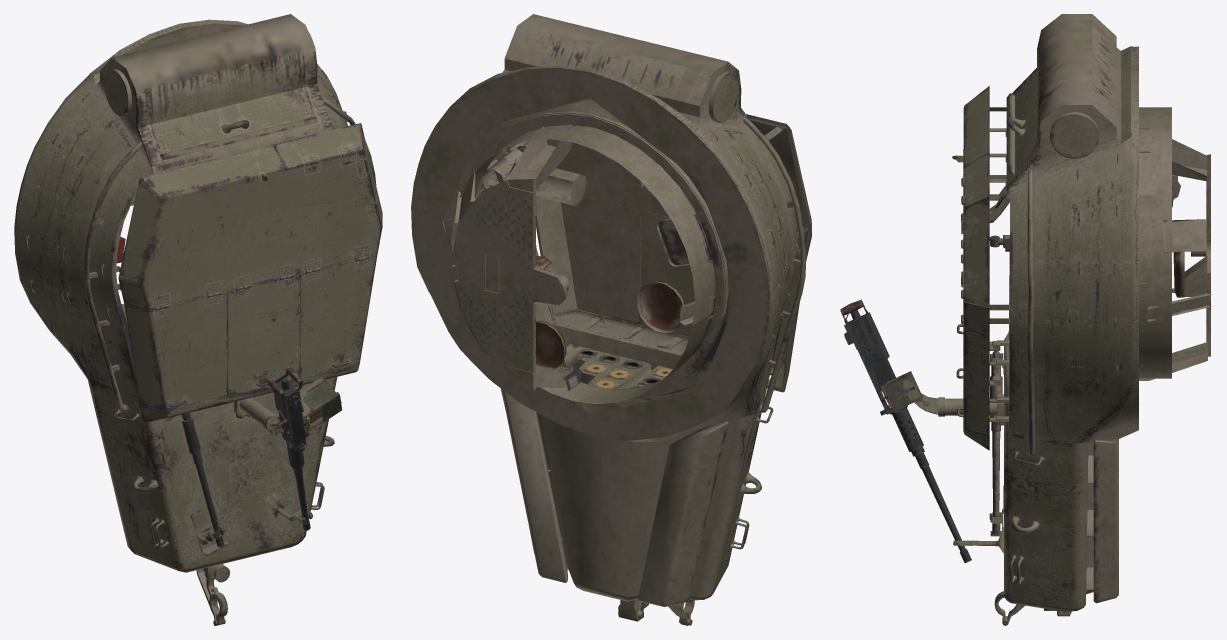
The model's file is Turret_02.glb.
3 renders of one model, left to right at view 1: azimuth 30°, elevation 25°; view 2: azimuth 150°, elevation 25°; view 3: azimuth 270°, elevation 25°, orthographic. The views are drawn at different scales.
Parts seen in each view (by area): view 1: set_0_group_0; view 2: set_0_group_0; view 3: set_0_group_0.
Boxes of the visible parts, x1,y1,x2,y2 form: set_0_group_0: (14, 14, 382, 625); set_0_group_0: (411, 14, 811, 625); set_0_group_0: (840, 14, 1211, 625).
Bounding box in the file's own units: 2.32 × 3.68 × 2.16.
Materials: 1 (1 with a texture image).
